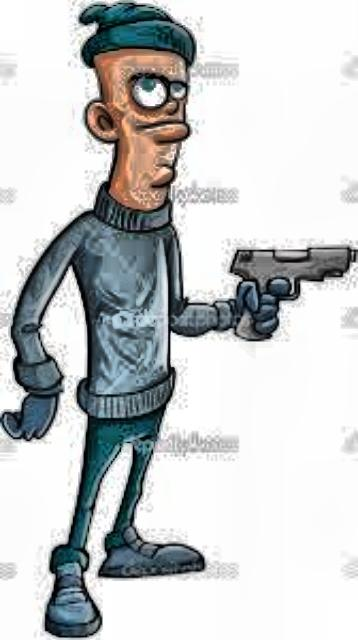pistol: (228, 243, 356, 339)
